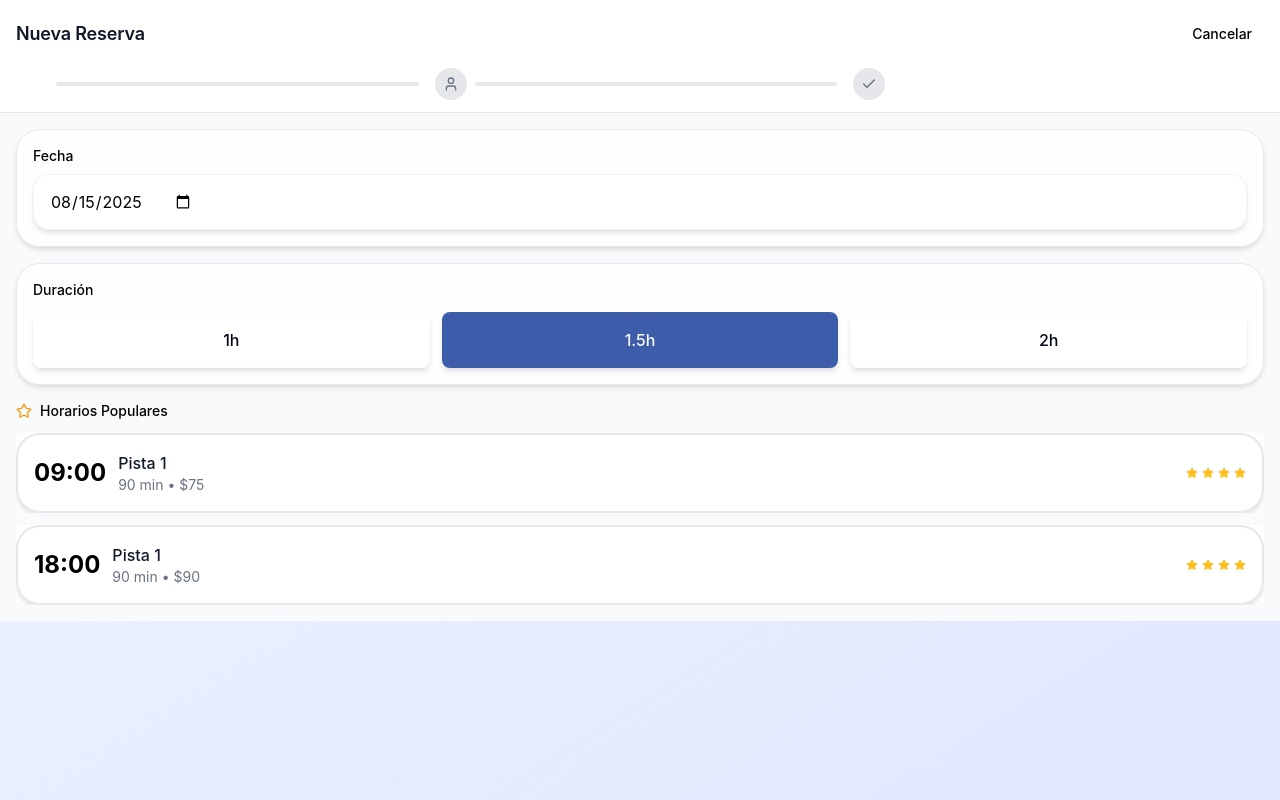
Test case: MobileBookingFlow › enables next step after slot selection
The image size is (1280, 800).
// Click slot
Click the text "09:00" at (70, 473), box [34, 457, 106, 489]
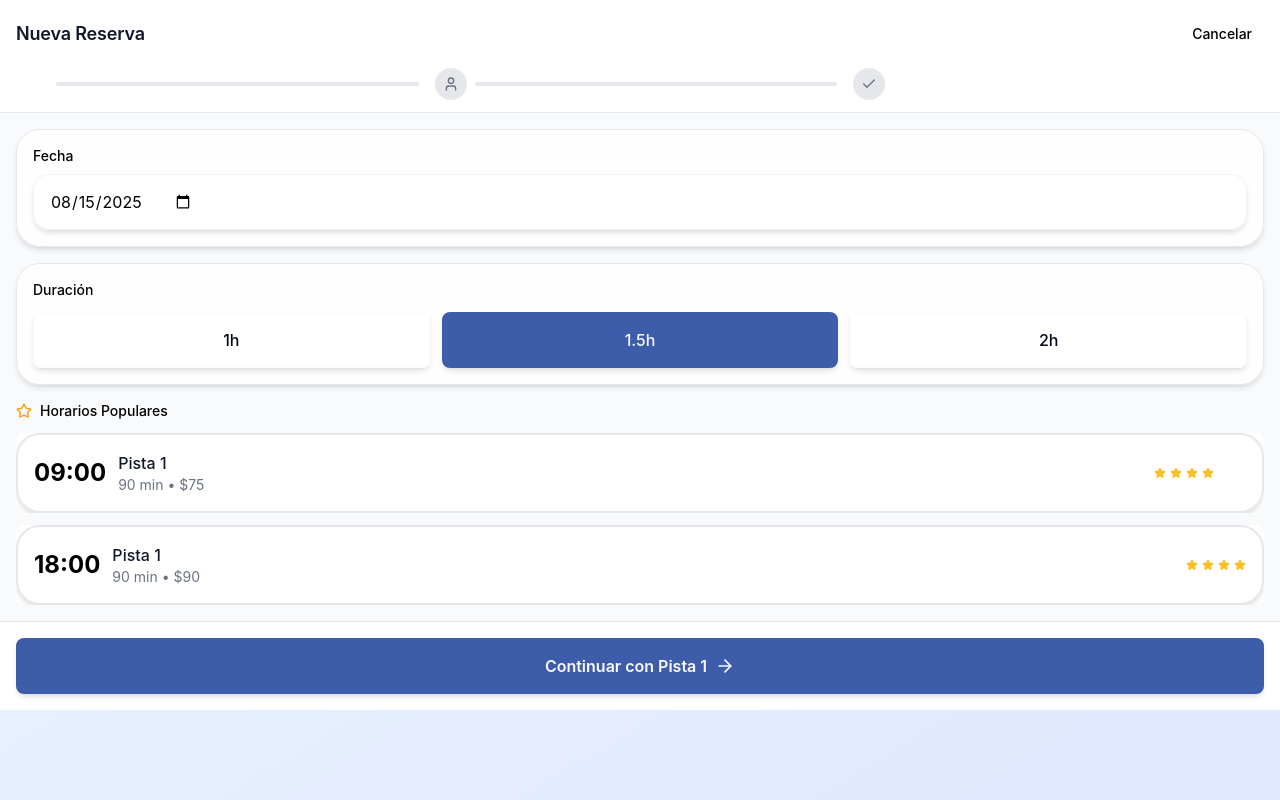
Expected: the button "Continuar con Pista 1" is shown, [16, 638, 1264, 694]
